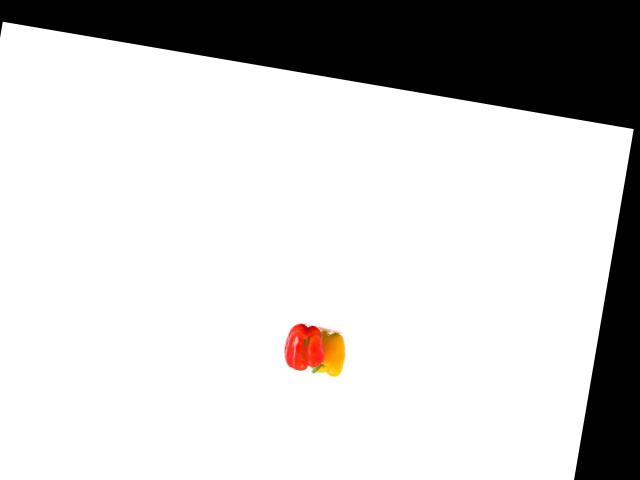bell_pepper: (306, 326, 350, 376)
